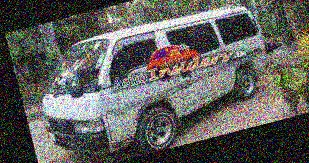van: (25, 0, 288, 163)
